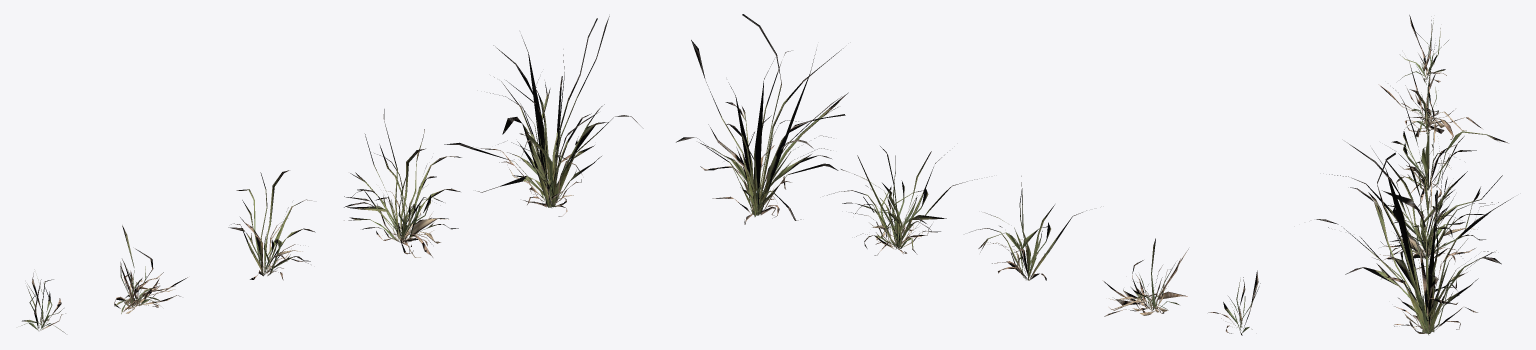
File: grass_medium_02.glb
3 views of the same model, side by side, from view 1: azimuth 30°, elevation 25°; view 2: azimuth 150°, elevation 25°; view 3: azimuth 270°, elevation 25° (orthographic). The views are drawn at different scales.
Parts seen in each view (by area): view 1: grass_medium_02_a; view 2: grass_medium_02_a; view 3: grass_medium_02_a.
Part boxes in pixels (box(x1,y1,x2,y2)): grass_medium_02_a: box(21, 16, 643, 333); grass_medium_02_a: box(676, 14, 1260, 335); grass_medium_02_a: box(1316, 15, 1513, 334).
Bounding box in the file's own units: 1.3 × 0.4048 × 0.4318.
1 material, 1 textured.
